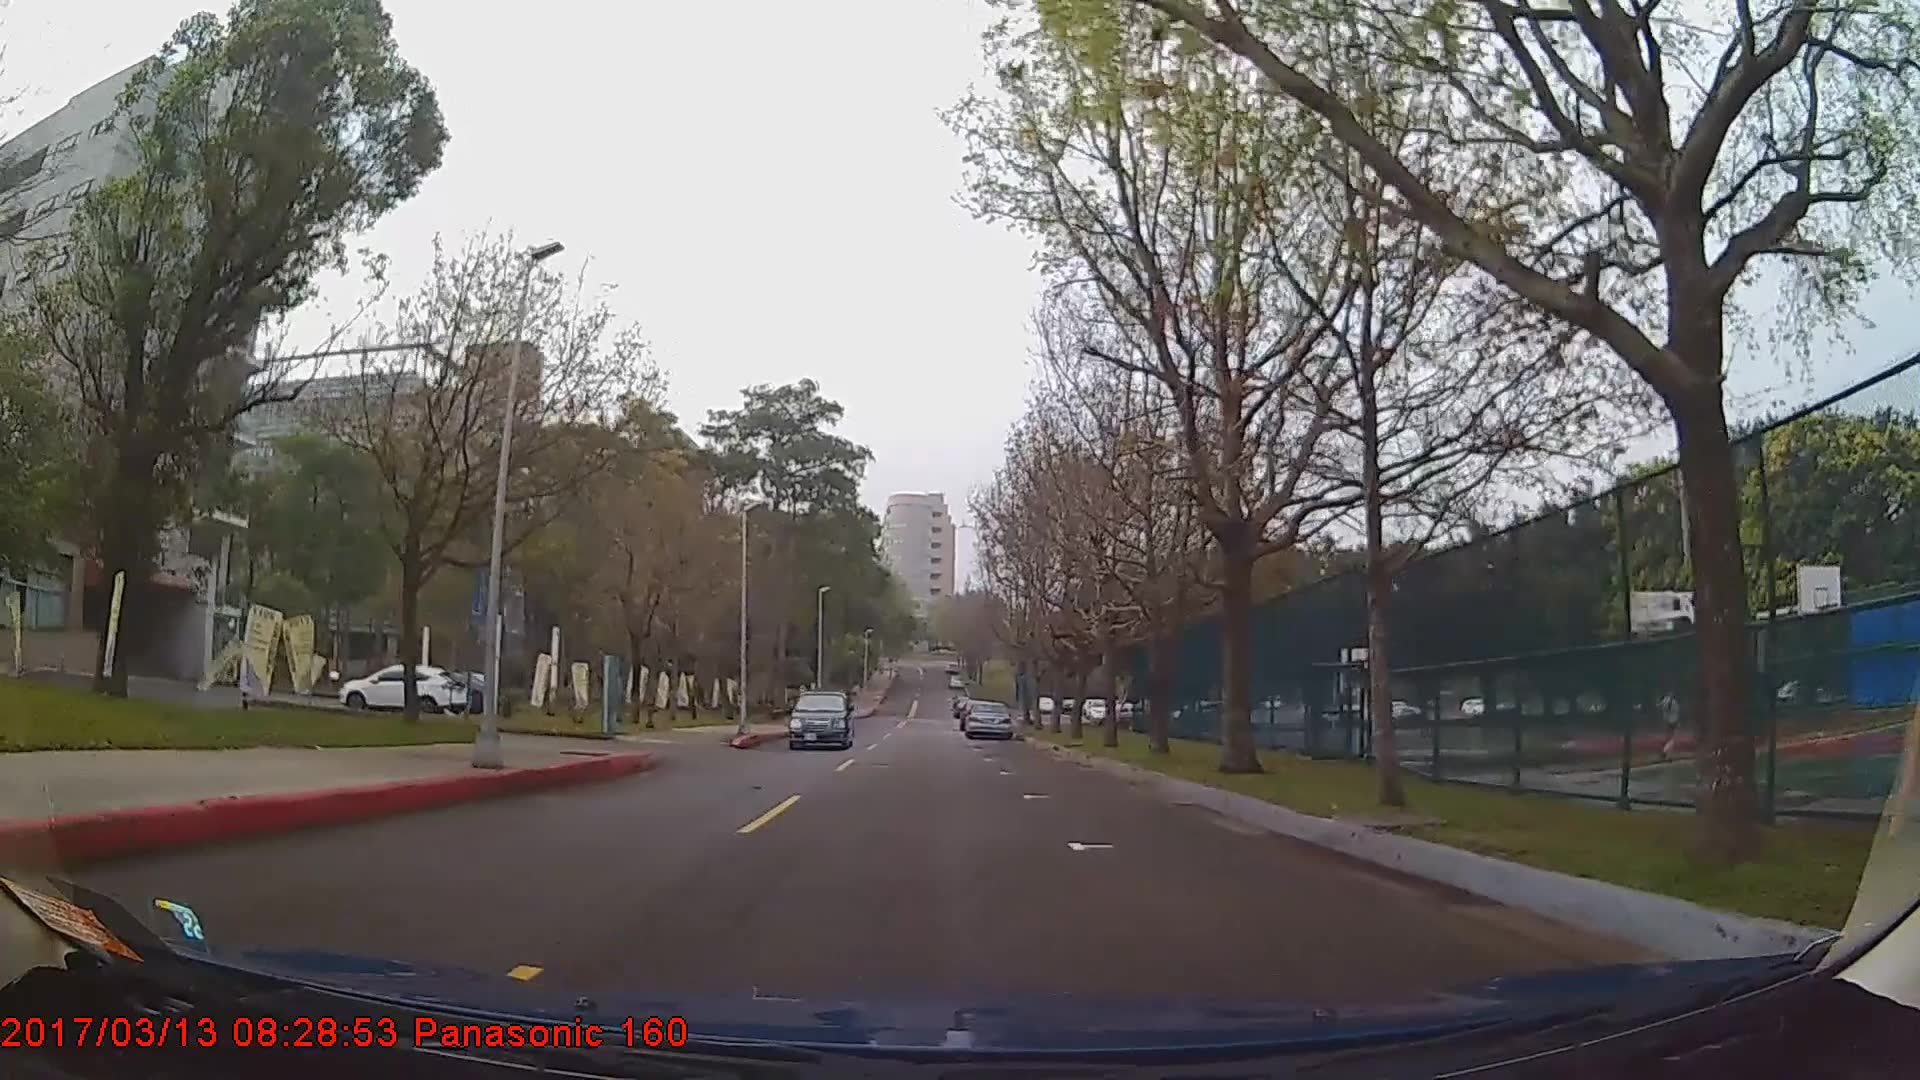vehicle: (342, 662, 468, 717), (785, 691, 851, 752), (964, 699, 1011, 741)
